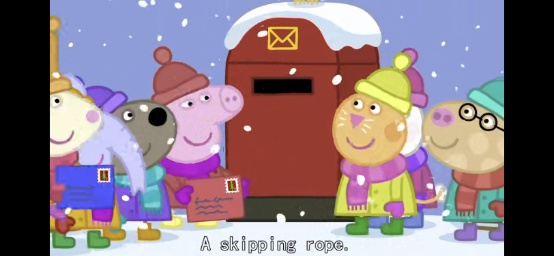Peppa: (151, 47, 245, 229)
